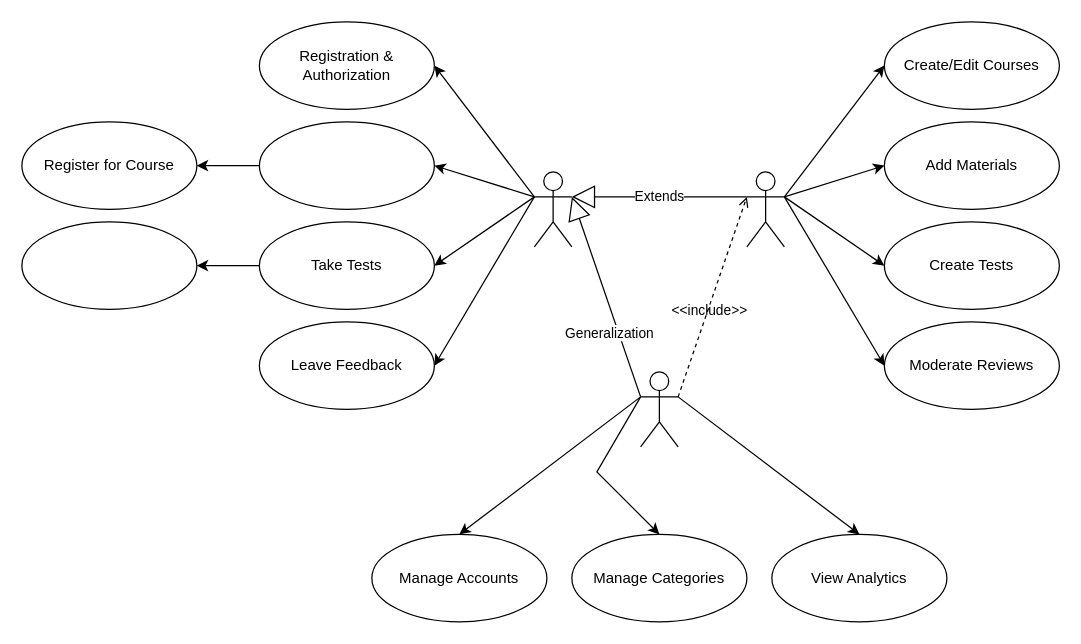
The diagram is 1081 pixels wide and 644 high, and some of its shapes have lost their labels. Each missing label, with the centre of its shape:
"Administrator" goes at (x=658, y=409).
"Check Progress" goes at (x=109, y=265).
"Student" goes at (x=552, y=209).
"Teacher" goes at (x=765, y=209).
"View Courses" goes at (x=346, y=165).
